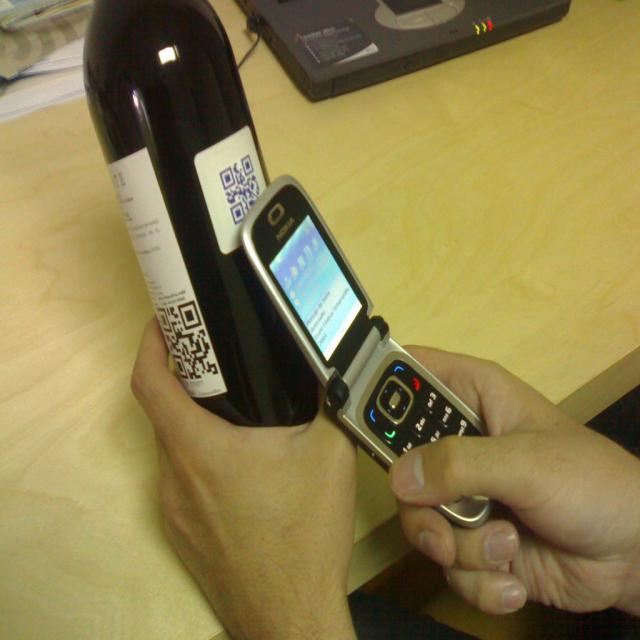qr-code: (156, 301, 218, 378), (219, 154, 261, 225)
